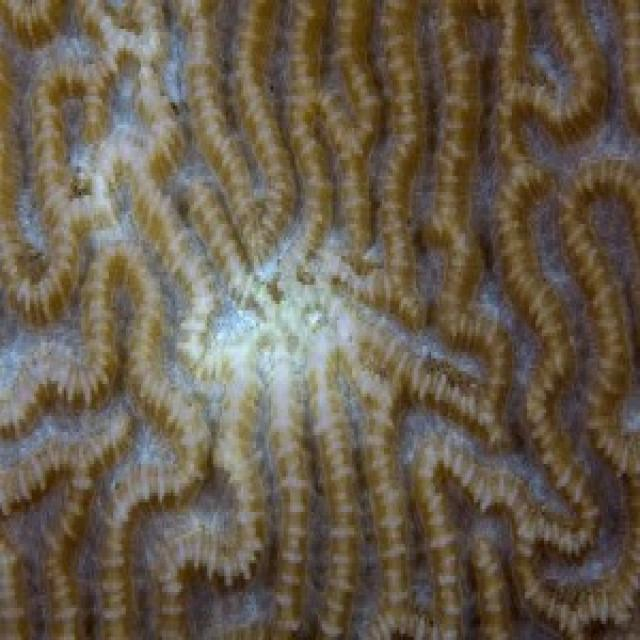Bleached: (180, 247, 355, 395)
